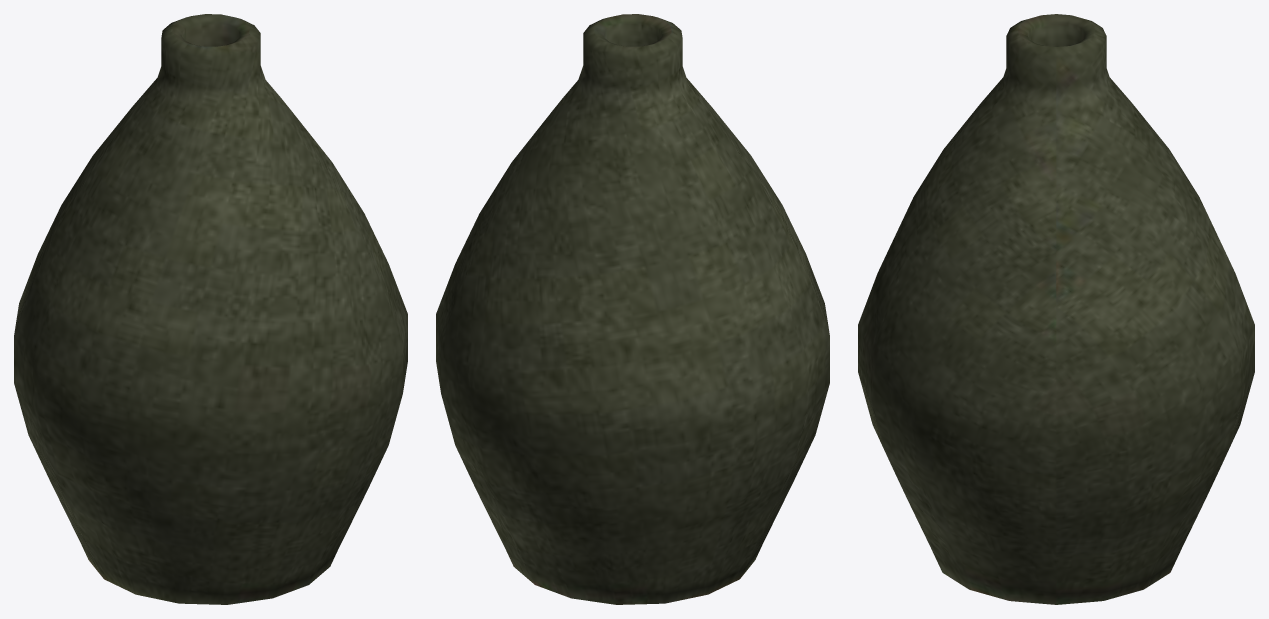
Rendered from bottle.gltf.
3 views of the same model, side by side, from view 1: azimuth 30°, elevation 25°; view 2: azimuth 150°, elevation 25°; view 3: azimuth 270°, elevation 25° (orthographic).
Parts seen in each view (by area): view 1: Pottery_8; view 2: Pottery_8; view 3: Pottery_8.
Boxes of the visible parts, x1,y1,x2,y2 form: Pottery_8: (14,14,407,604); Pottery_8: (436,14,829,604); Pottery_8: (858,14,1254,604).
Size of the model in its own units: 0.2658 by 0.3859 by 0.2658.
Materials: 1 (1 with a texture image).
